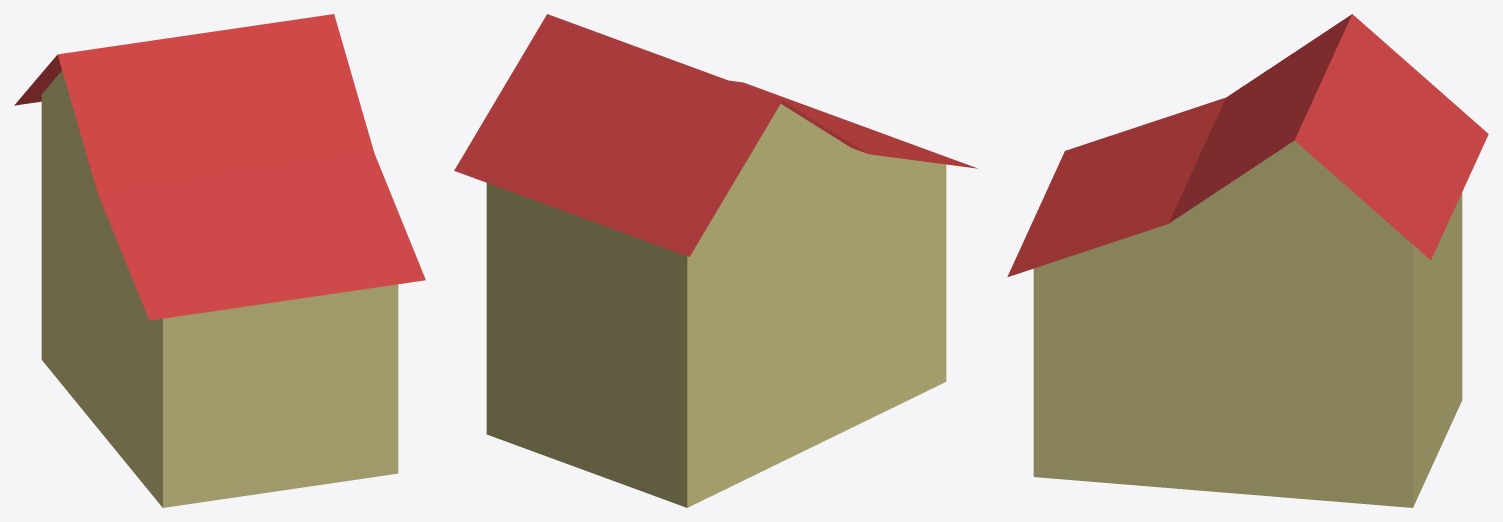
3 views of the same model, side by side, from view 1: azimuth 30°, elevation 25°; view 2: azimuth 150°, elevation 25°; view 3: azimuth 270°, elevation 25° (orthographic). The views are drawn at different scales.
Bounding box in the file's own units: 8.42 × 10.64 × 8.96.
